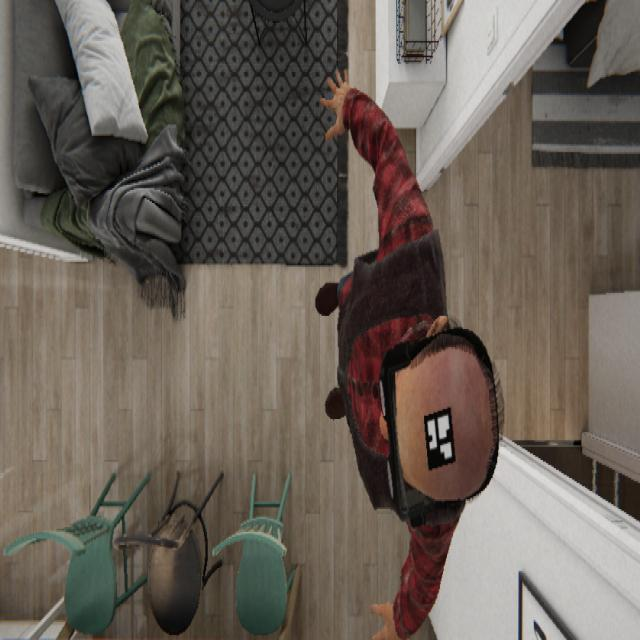AruCO: (422, 403, 456, 471)
Human: (314, 65, 505, 637)
